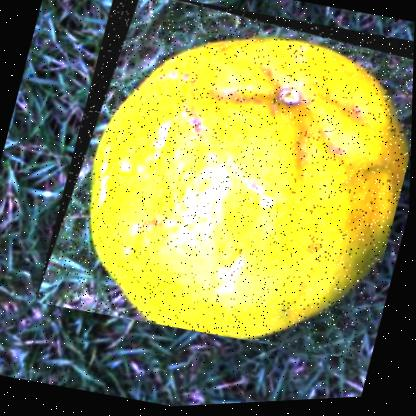orange_rotten: (35, 0, 415, 378)
